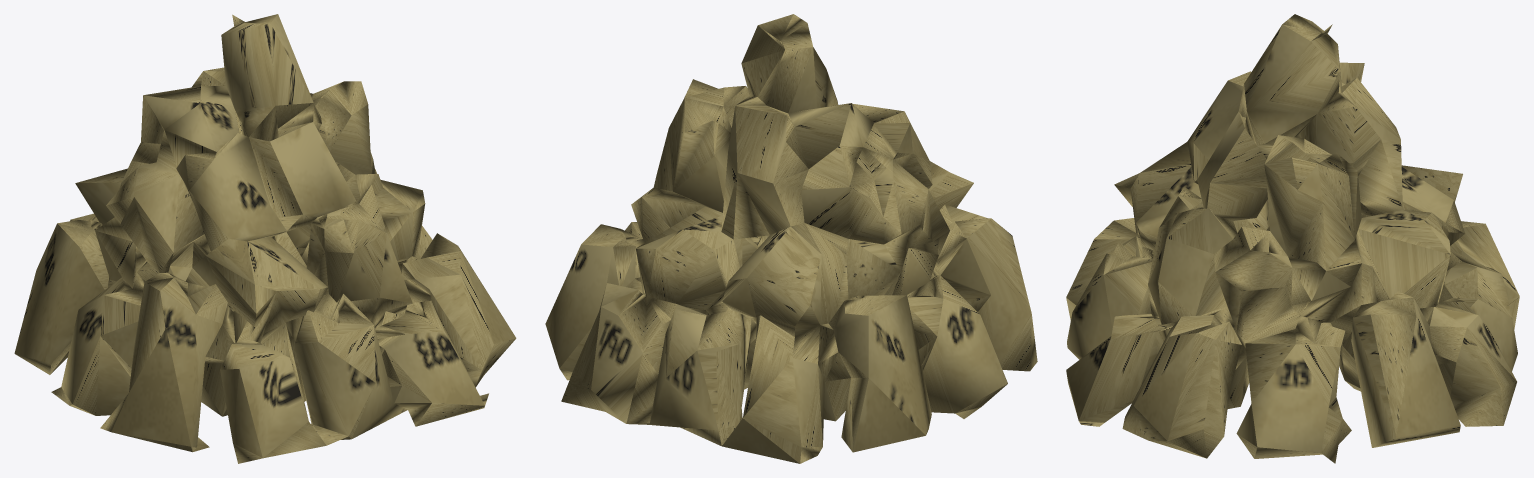
The model's file is cover_half_jungle_v6.glb.
3 views of the same model, side by side, from view 1: azimuth 30°, elevation 25°; view 2: azimuth 150°, elevation 25°; view 3: azimuth 270°, elevation 25° (orthographic).
Visible parts, largest first — view 1: Mesh_0; view 2: Mesh_0; view 3: Mesh_0.
Part boxes in pixels (x1=…): Mesh_0: x1=14, y1=14, x2=516, y2=463; Mesh_0: x1=545, y1=14, x2=1037, y2=463; Mesh_0: x1=1066, y1=14, x2=1519, y2=463.
Size of the model in its own units: 0.9599 by 0.7762 by 0.923.
1 material, 1 textured.
